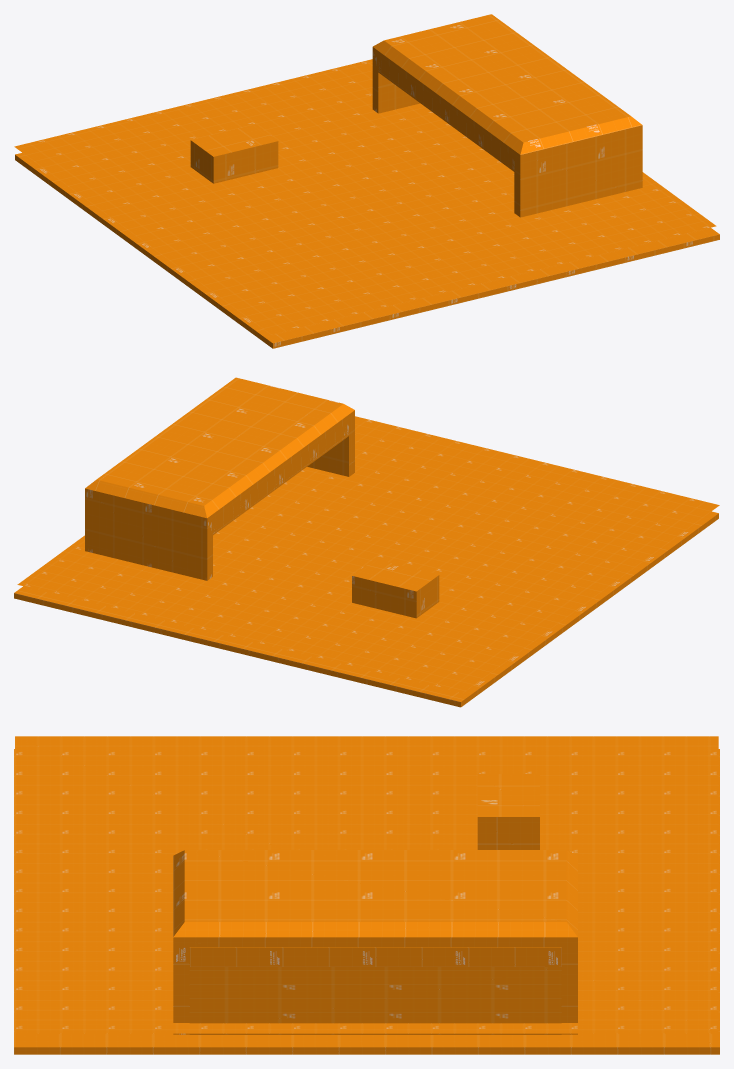
The model's file is test_map.glb.
The picture shows the model from 3 angles, top to bottom: view 1: azimuth 30°, elevation 25°; view 2: azimuth 150°, elevation 25°; view 3: azimuth 270°, elevation 25°; orthographic projection. The views are drawn at different scales.
Visible parts, largest first — view 1: Plane.001, Plane; view 2: Plane.001, Plane; view 3: Plane.001, Plane.
Boxes of the visible parts, box(x1,y1,x2,y2) form: Plane.001: box(14, 59, 716, 334); Plane: box(15, 14, 719, 348); Plane.001: box(17, 416, 719, 693); Plane: box(14, 377, 718, 707); Plane.001: box(15, 736, 718, 1033); Plane: box(14, 749, 719, 1054).
Bounding box in the file's own units: 121 × 21.63 × 120.
Materials: 1 (1 with a texture image).
